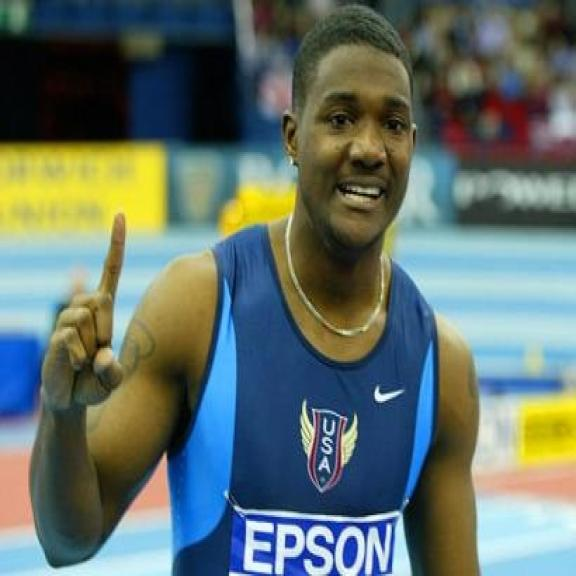face: (279, 46, 423, 254)
